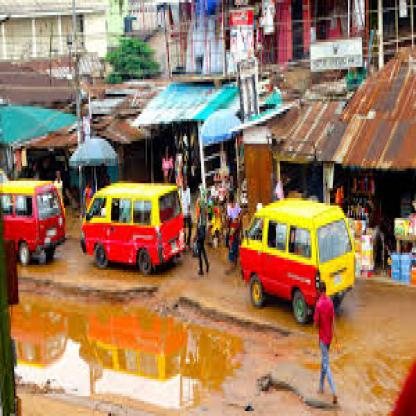car: (227, 197, 368, 322), (75, 180, 187, 278)
